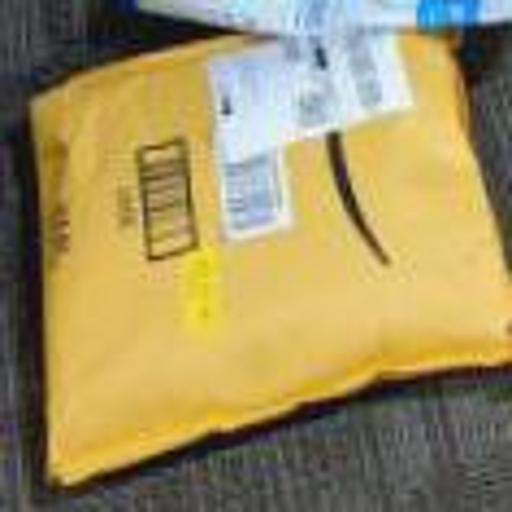Amazon: (61, 29, 454, 469)
